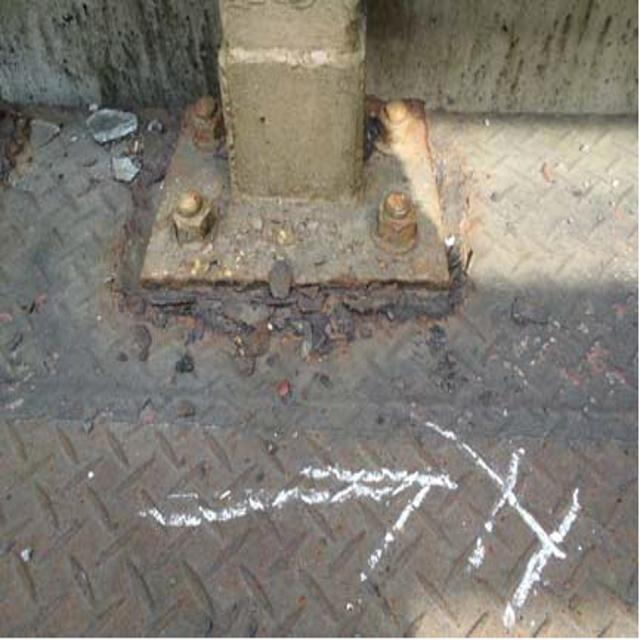corrosion: (133, 74, 467, 379)
